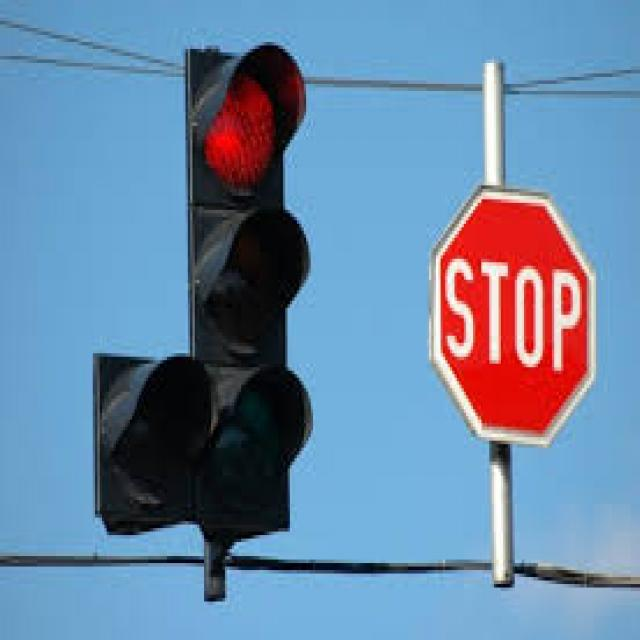stop-sign: (444, 184, 600, 454)
